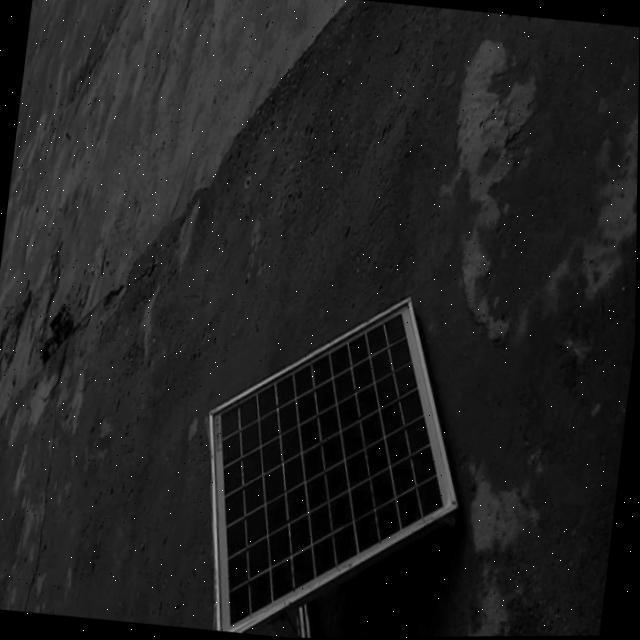Normal Solar Panel: (188, 278, 482, 639)
